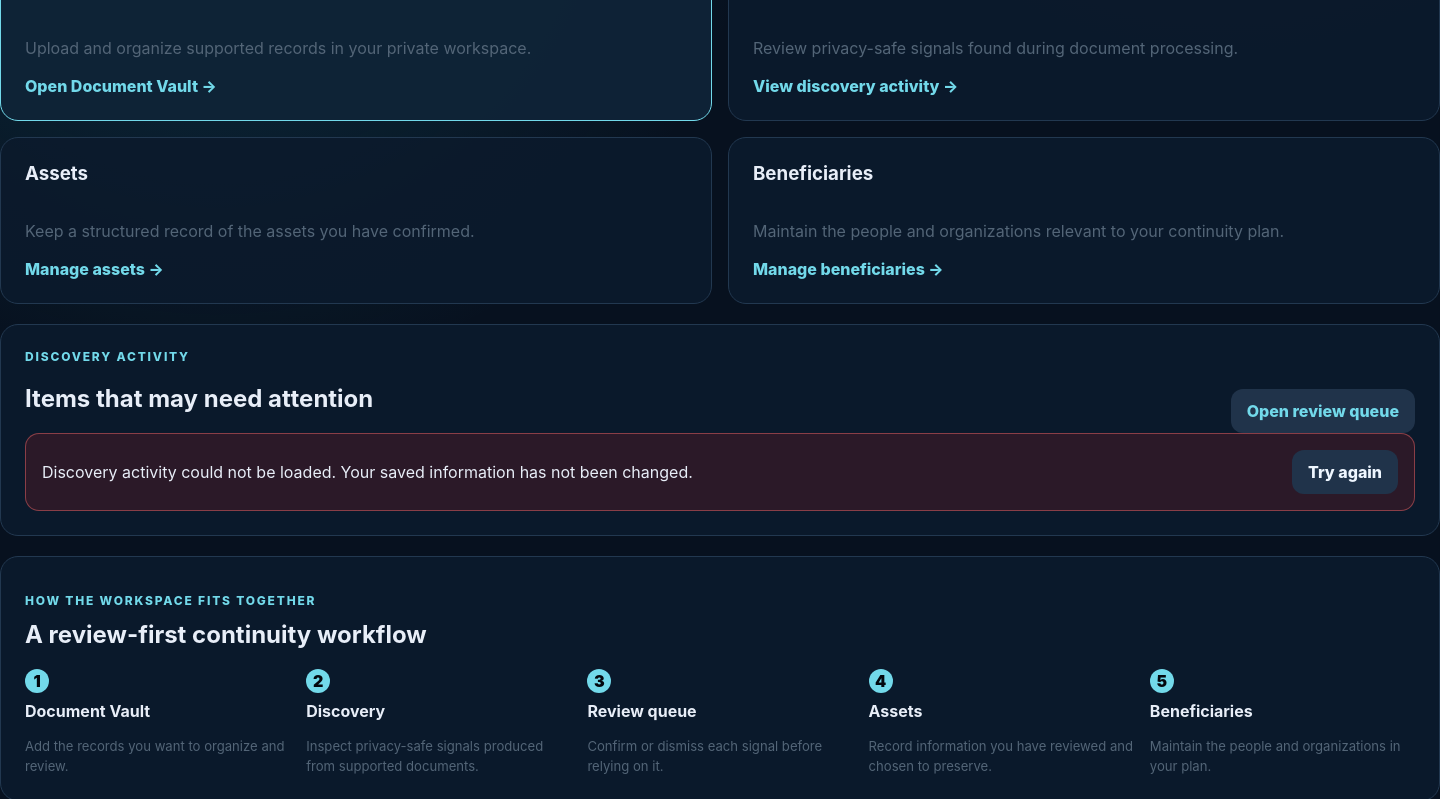
Test: WorkspaceDashboardPage › shows a nontechnical activity error and retries without hiding workspace links
(page scrolled)
expect the message shows "Your saved information has not been changed.": met, box [42,462,693,482]
expect the link "Open Document Vault →" is shown: met, box [25,76,217,96]
Click the button "Try again".
click(1345, 472)  # box [1292,450,1398,494]
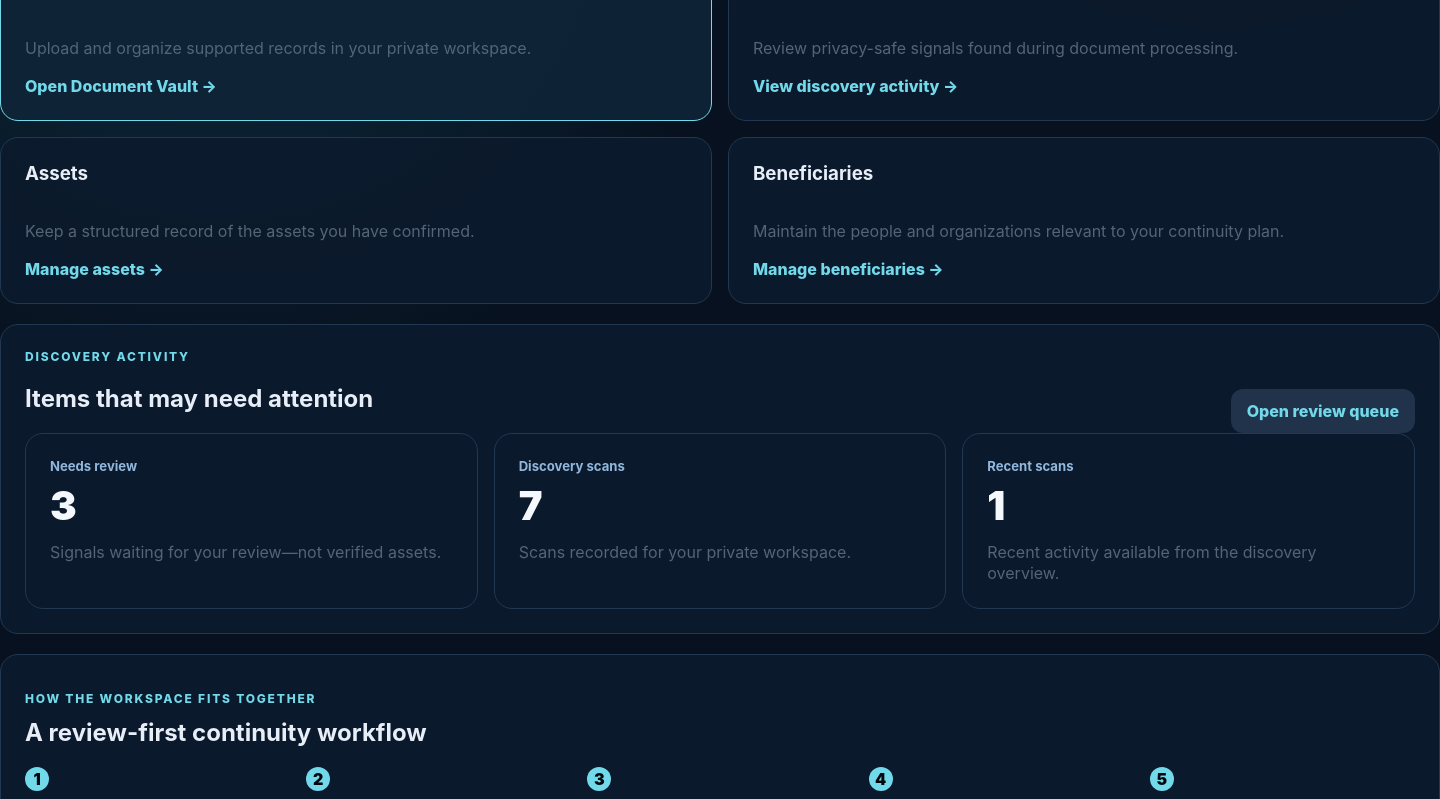
expect the element "Needs review" is shown: met, box [25,433,478,609]
